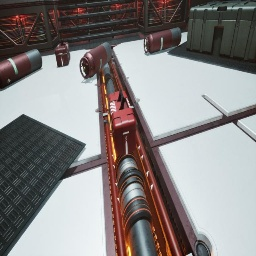FirstAidBox ,: (109, 89, 137, 156), (55, 38, 70, 67)
NitrogenTank ,: (0, 49, 42, 89), (79, 42, 112, 79), (144, 27, 182, 54)
